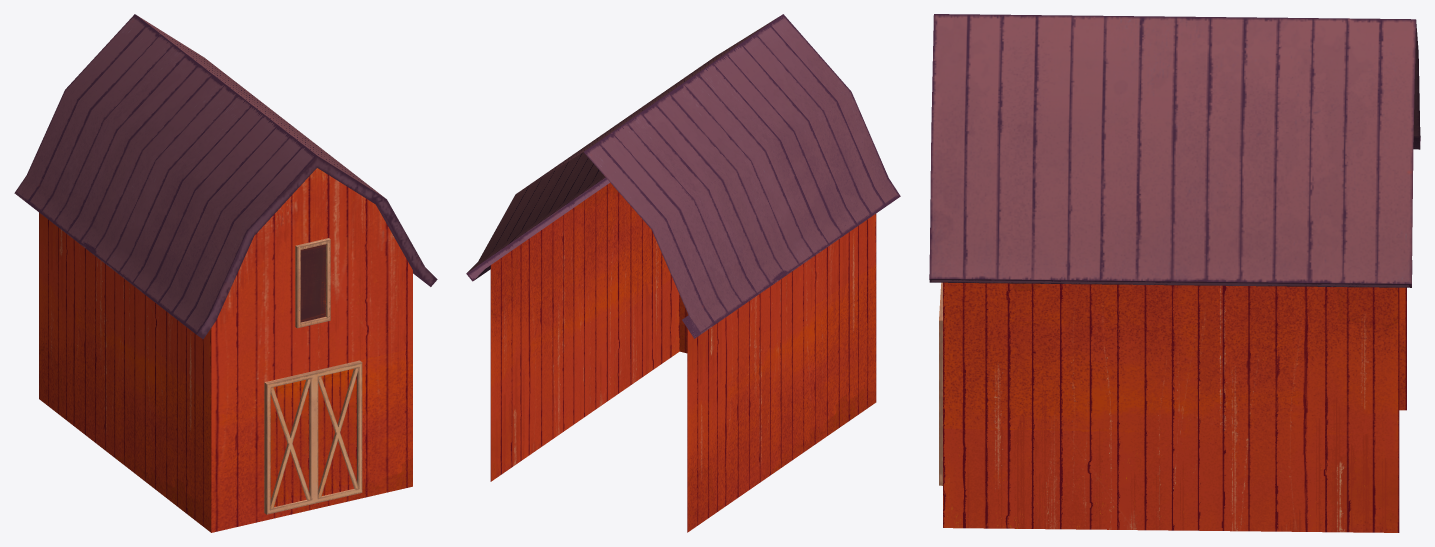
File: Barn.fbx
The picture shows the model from 3 angles, left to right: view 1: azimuth 30°, elevation 25°; view 2: azimuth 150°, elevation 25°; view 3: azimuth 270°, elevation 25°; orthographic projection. The views are drawn at different scales.
Parts seen in each view (by area): view 1: Barn; view 2: Barn; view 3: Barn.
Boxes of the visible parts, x1,y1,x2,y2 form: Barn: (14, 14, 437, 532); Barn: (466, 14, 900, 532); Barn: (929, 14, 1420, 532).
Bounding box in the file's own units: 85.68 × 119 × 117.
